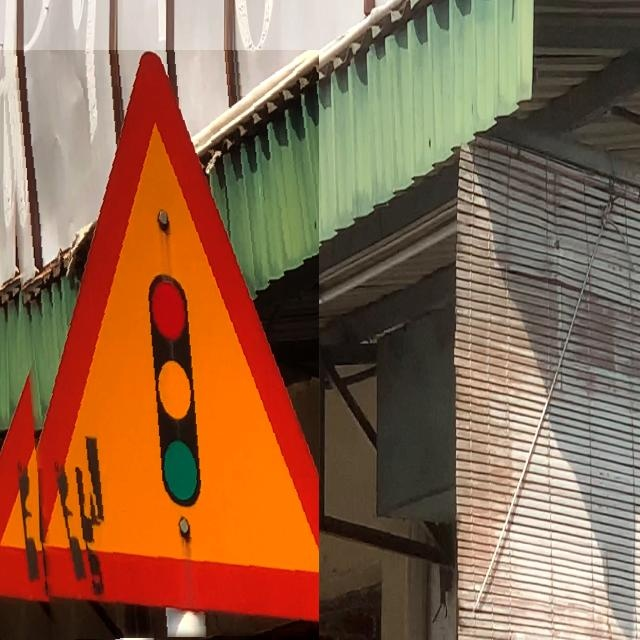bien_nguy_hiem: (0, 50, 319, 640)
